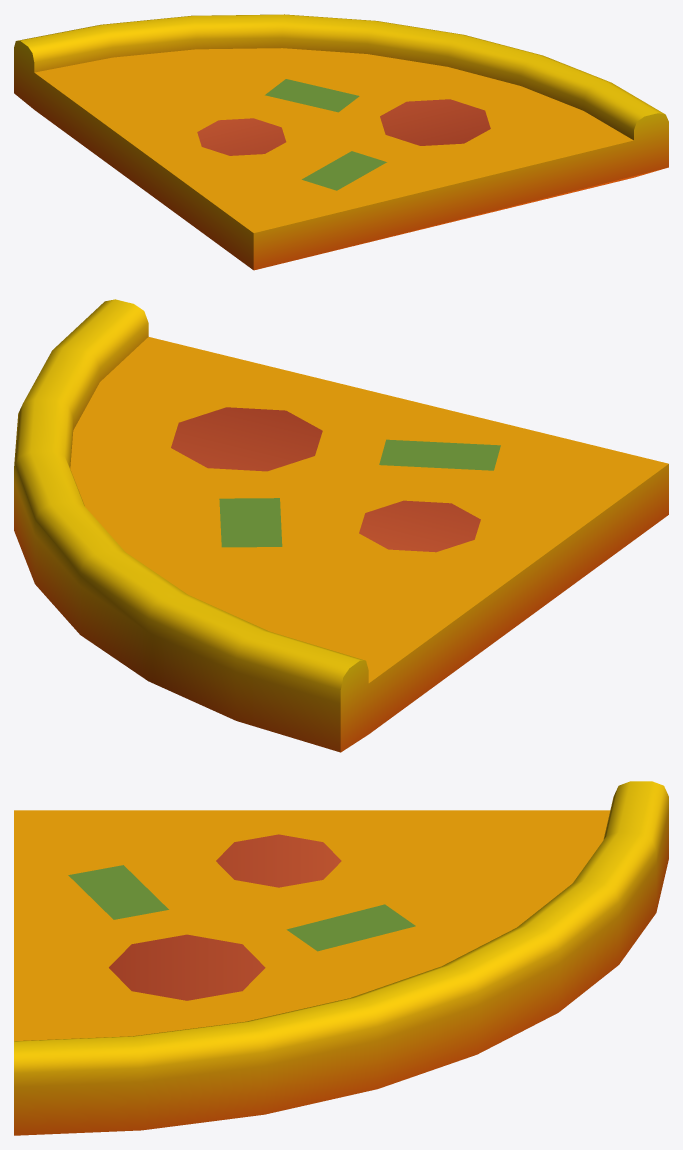
Rendered from pizza.fbx.
3 renders of one model, top to bottom at view 1: azimuth 30°, elevation 25°; view 2: azimuth 150°, elevation 25°; view 3: azimuth 270°, elevation 25°, orthographic. The views are drawn at different scales.
Visible parts, largest first — view 1: pizza; view 2: pizza; view 3: pizza.
Boxes of the visible parts, bbox=[...] form: pizza: bbox=[14, 14, 668, 270]; pizza: bbox=[14, 299, 668, 752]; pizza: bbox=[14, 781, 668, 1135].
Bounding box in the file's own units: 100 × 13.5 × 100.
Materials: 1 (1 with a texture image).
